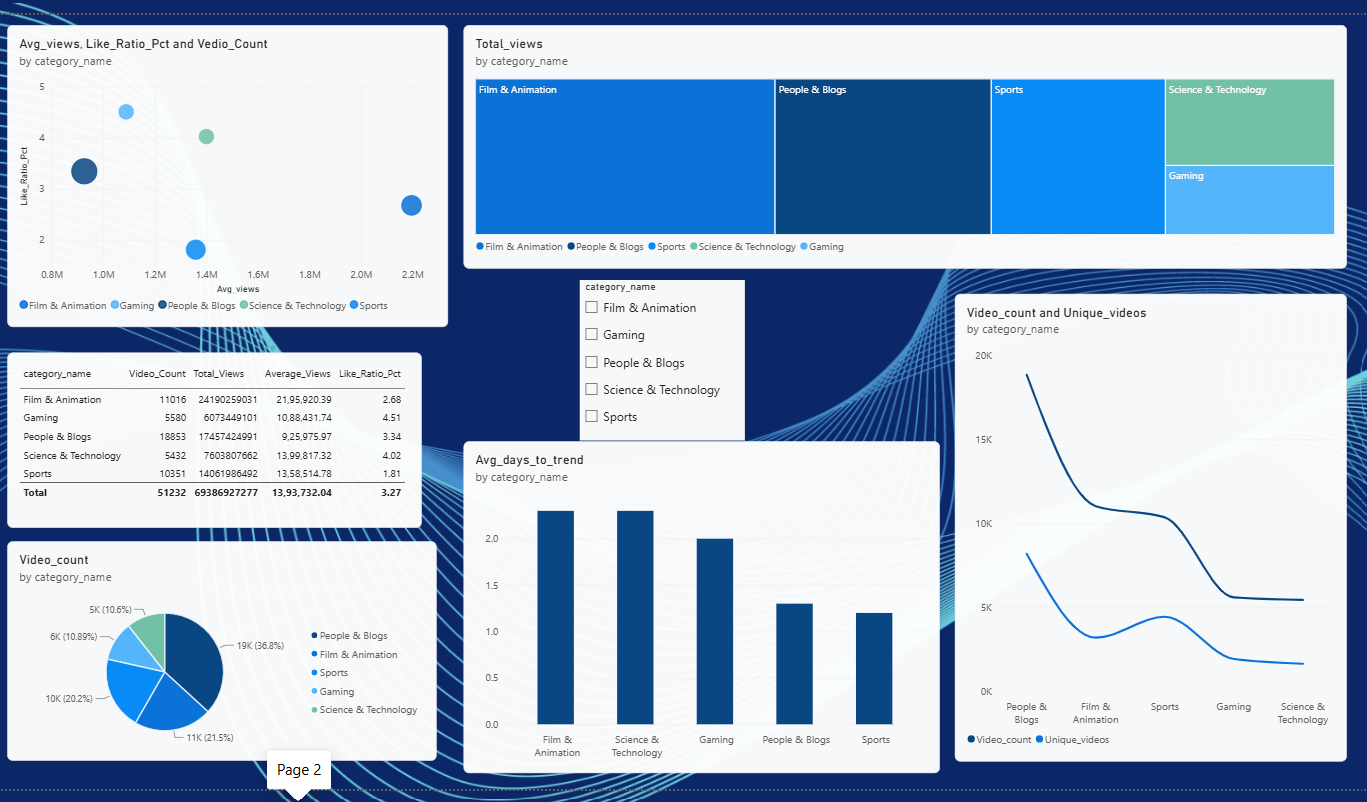

The dashboard page shown, as its layout file describes it:
{"tool":"powerbi","page":{"name":"Page 2","canvas":[1920,1080],"ordinal":1},"visuals":[{"type":"scatterChart","fields":{"Series":["category_performance_summary.category_name"],"Size":["Sum(category_performance_summary.video_count)"],"X":["Avg(category_performance_summary.avg_views)"],"Y":["Avg(category_performance_summary.like_ratio_pct)"]},"box":[16.5,14.4,615.4,422],"z":0},{"type":"clusteredColumnChart","fields":{"Category":["category_performance_summary.category_name"],"Y":["Avg(category_performance_summary.avg_days_to_trend)"]},"box":[652.5,594.9,664.8,463.1],"z":1000},{"type":"tableEx","fields":{"Values":["category_performance_summary.category_name","Sum(category_performance_summary.video_count)","Sum(category_performance_summary.total_views)","Avg(category_performance_summary.avg_views)","Avg(category_performance_summary.like_ratio_pct)"]},"box":[16.5,471.4,578.4,244.9],"z":2000},{"type":"treemap","fields":{"Group":["category_performance_summary.category_name"],"Values":["Sum(category_performance_summary.total_views)"]},"box":[652.5,14.4,1232.9,339.6],"z":2001},{"type":"lineChart","fields":{"Category":["category_performance_summary.category_name"],"Y":["Sum(category_performance_summary.video_count)","Sum(category_performance_summary.unique_videos)"]},"box":[1337.9,389,547.5,652.5],"z":2002},{"type":"pieChart","fields":{"Category":["category_performance_summary.category_name"],"Y":["Sum(category_performance_summary.video_count)"]},"box":[16.5,734.8,599,306.7],"z":2003},{"type":"slicer","fields":{"Values":["category_performance_summary.category_name"]},"box":[815.1,370.5,230.5,224.4],"z":2004}]}

Visuals, with their boxes in screenshot pixels (x1, y1, x2, y2):
scatterChart - category_performance_summary.category_name x Sum(category_performance_summary.video_count): (0,18,432,325)
clusteredColumnChart - category_performance_summary.category_name x Avg(category_performance_summary.avg_days_to_trend): (447,440,930,777)
tableEx - category_performance_summary.category_name x Sum(category_performance_summary.video_count): (0,350,405,529)
treemap - category_performance_summary.category_name x Sum(category_performance_summary.total_views): (447,18,1344,265)
lineChart - category_performance_summary.category_name x Sum(category_performance_summary.video_count): (945,290,1344,765)
pieChart - category_performance_summary.category_name x Sum(category_performance_summary.video_count): (0,542,420,765)
slicer - category_performance_summary.category_name: (565,277,733,440)
